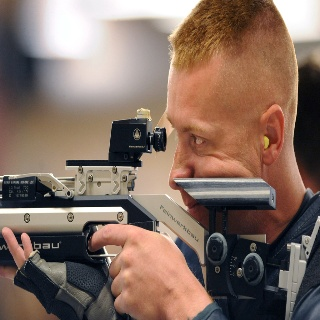rifle: (2, 108, 279, 273)
